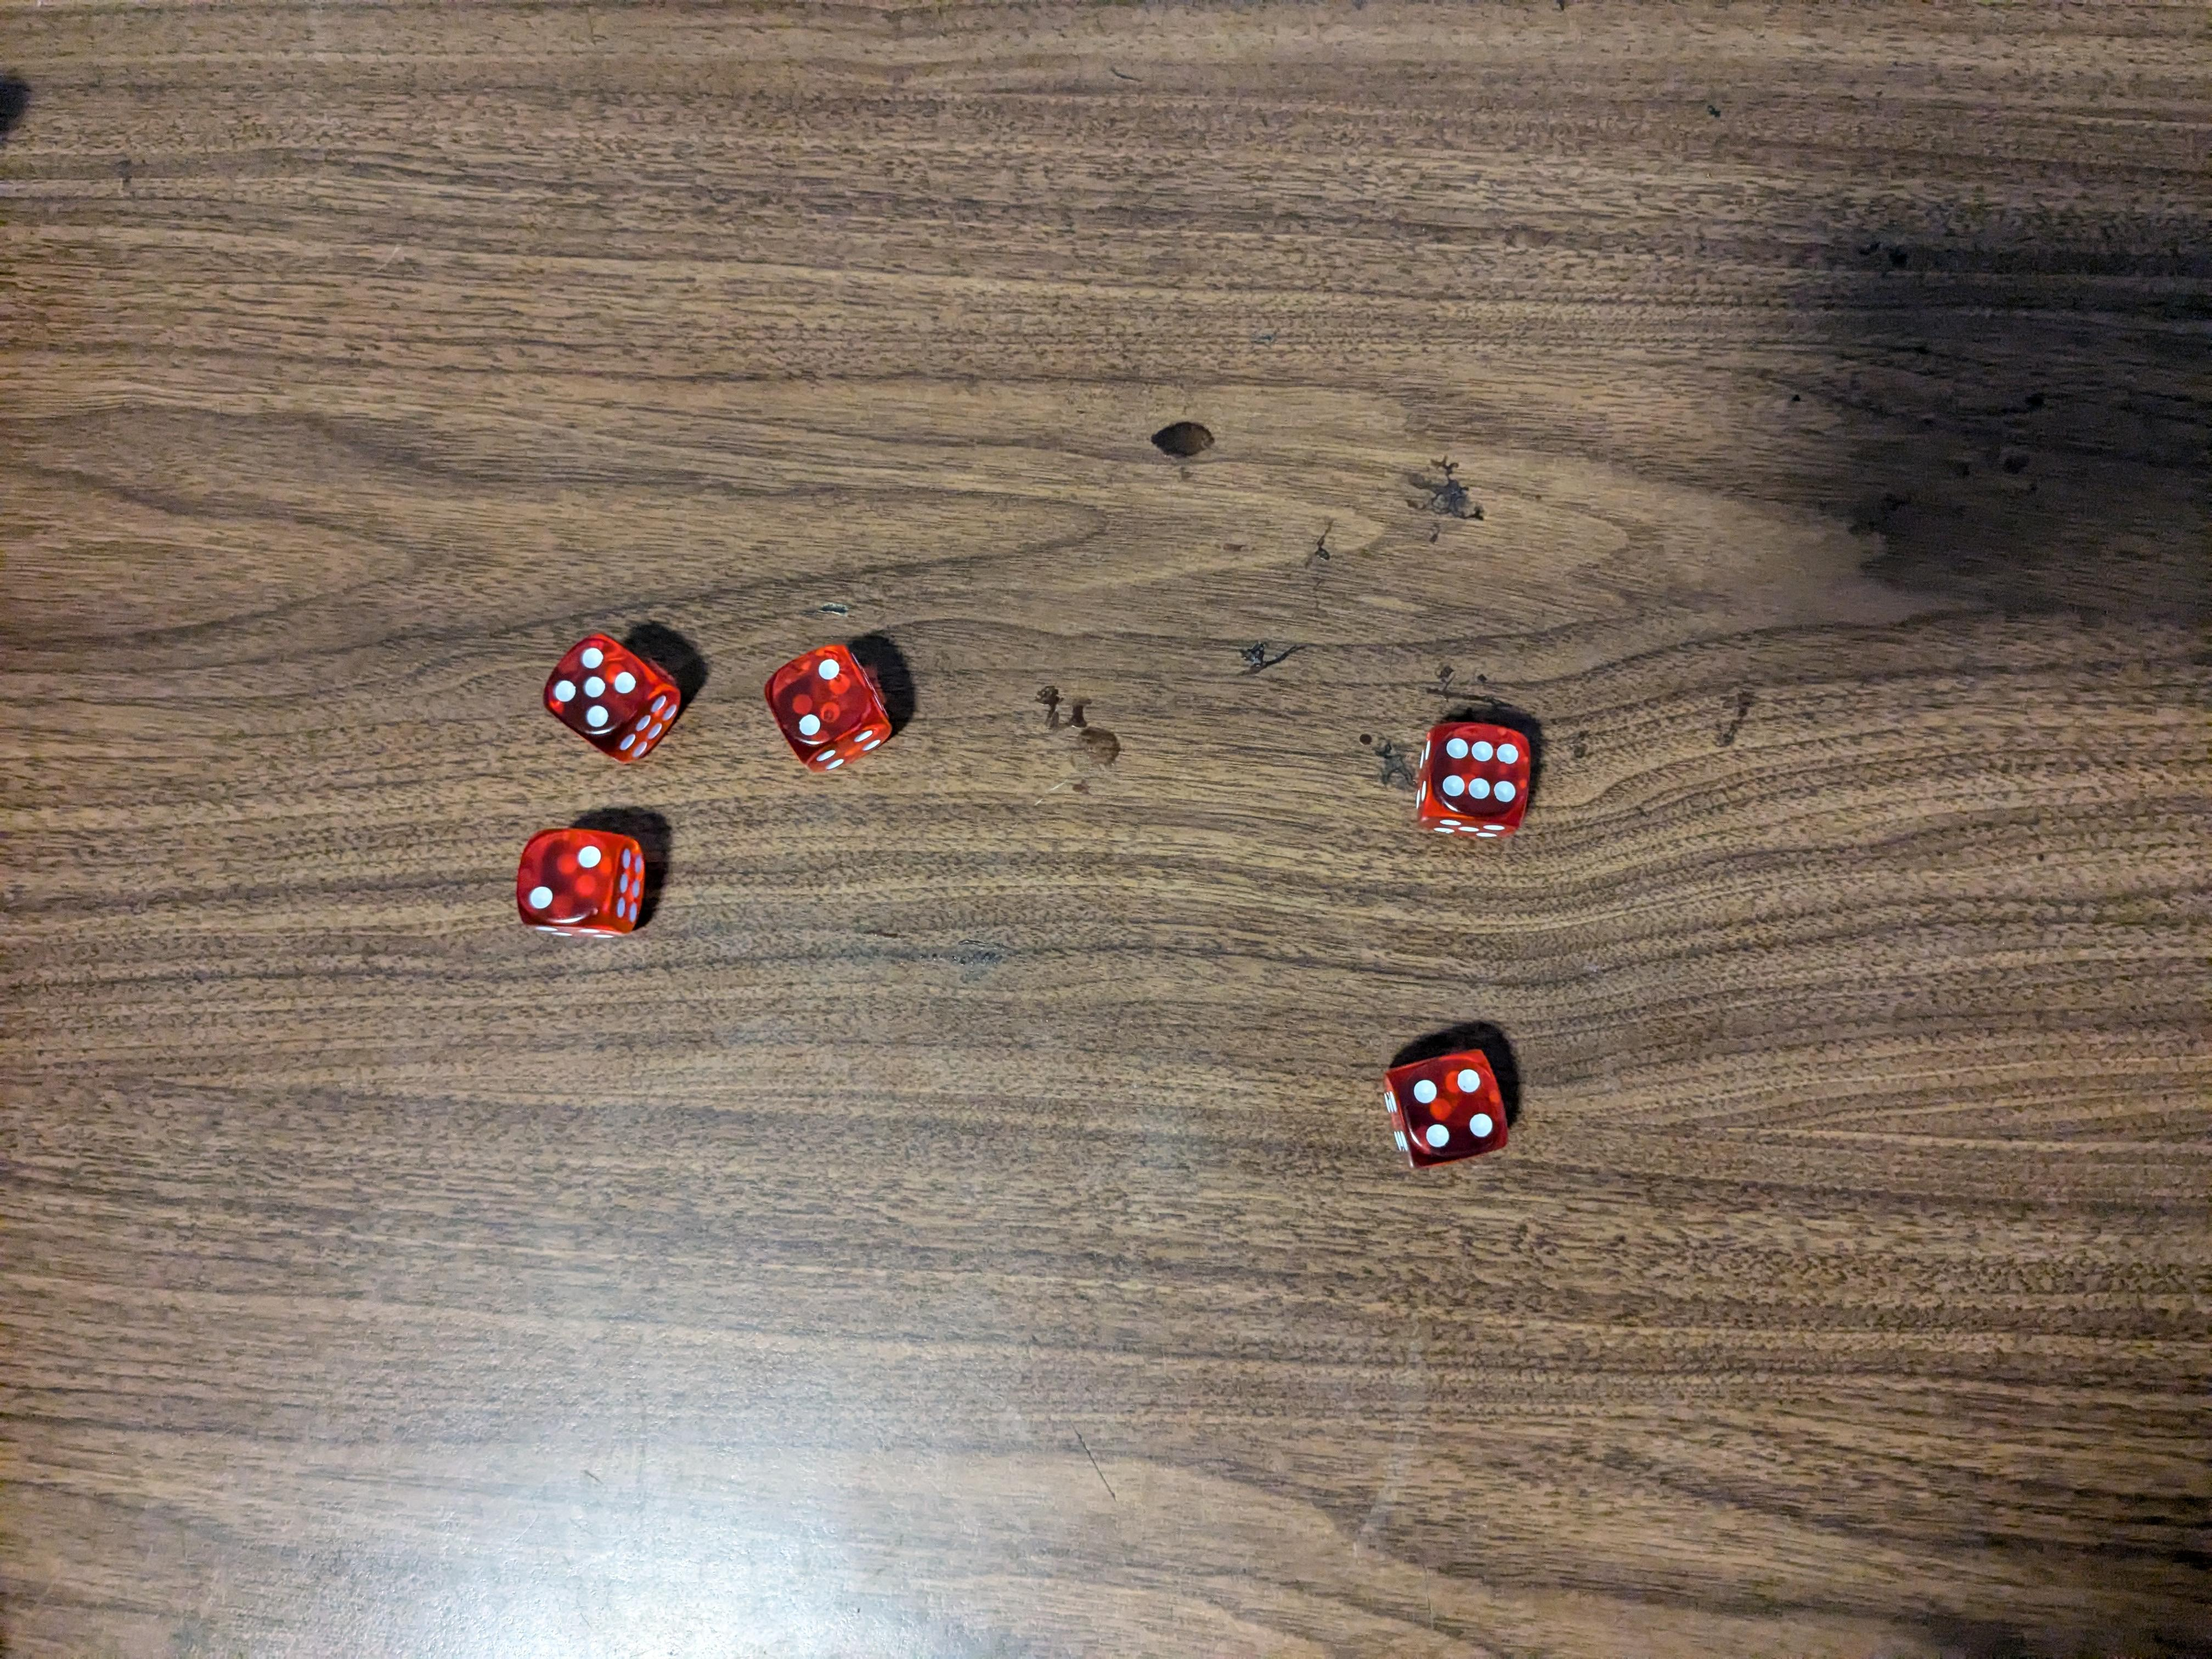five: (542, 629, 685, 760)
four: (1379, 1046, 1519, 1168)
six: (1413, 716, 1536, 843)
two: (761, 636, 900, 770), (517, 828, 651, 936)
